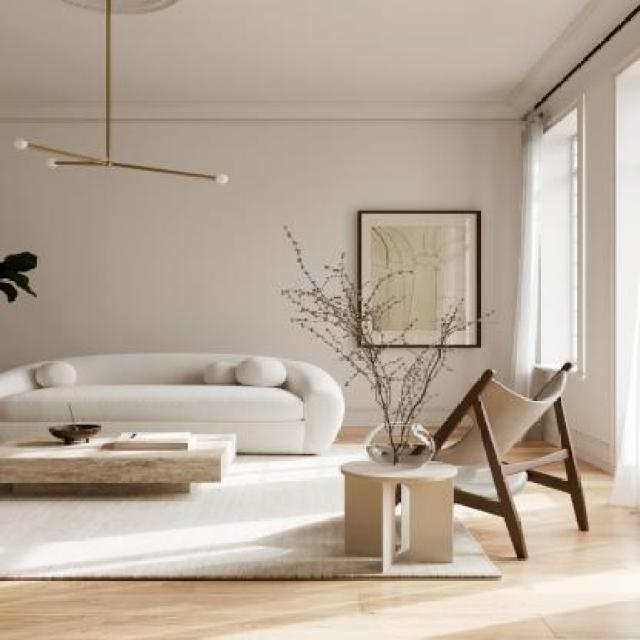Floor: (2, 457, 640, 639), (503, 440, 561, 463), (333, 426, 375, 444), (530, 460, 567, 480), (444, 427, 472, 447), (424, 427, 439, 436)
